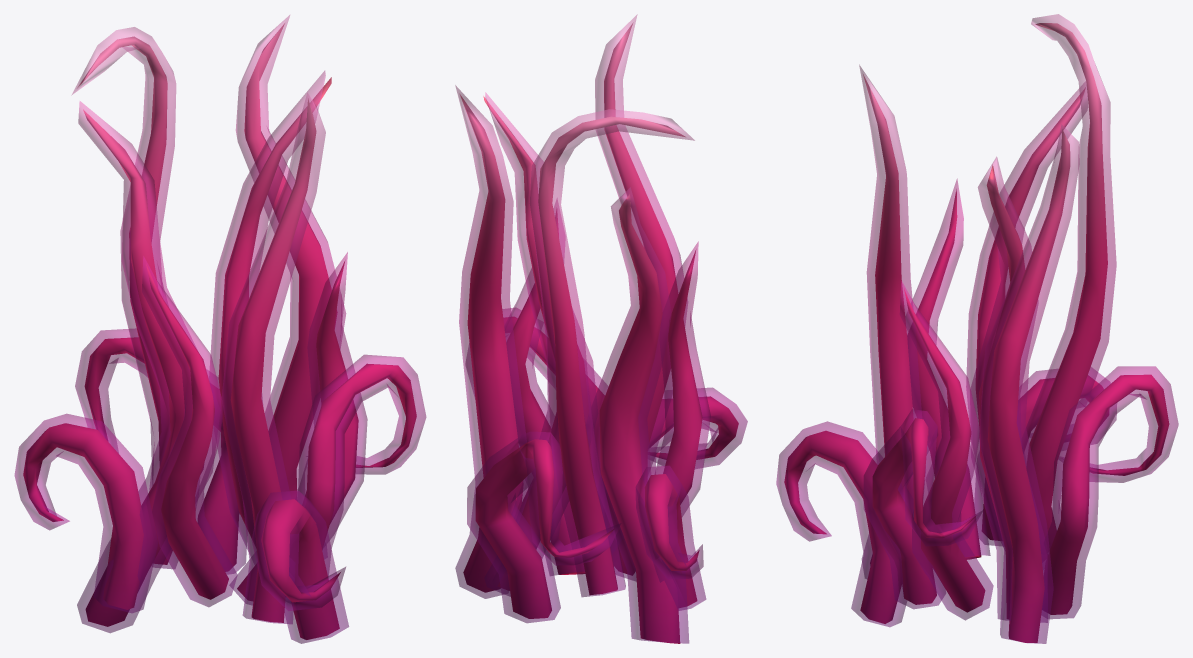
Rendered from capsule_contents_009.glb.
3 renders of one model, left to right at view 1: azimuth 30°, elevation 25°; view 2: azimuth 150°, elevation 25°; view 3: azimuth 270°, elevation 25°, orthographic. The views are drawn at different scales.
Parts seen in each view (by area): view 1: Сapsule_contents_009; view 2: Сapsule_contents_009; view 3: Сapsule_contents_009.
Part boxes in pixels (x1,y1,x2,y2): Сapsule_contents_009: (14,15,426,643); Сapsule_contents_009: (455,14,747,643); Сapsule_contents_009: (776,14,1178,643).
Bounding box in the file's own units: 0.6745 × 1.17 × 0.7627.
Materials: 2 (2 with a texture image).
